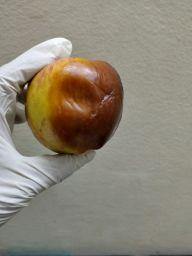Apple Rotten: (15, 54, 138, 163)
